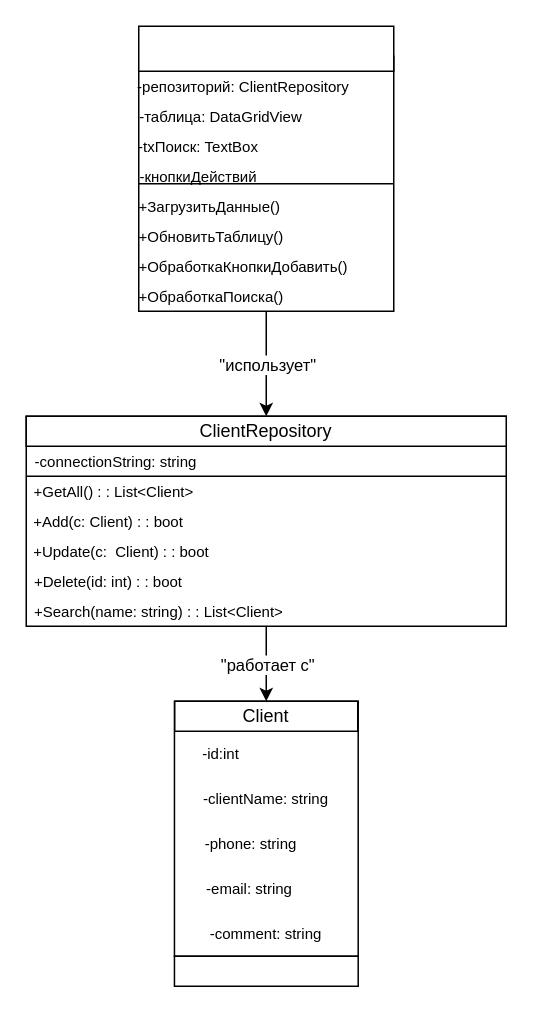
Some shapes in this 534 by 1013 pixel diagram are drawn without their labels. The centre of each missing label's shape, as x and y in pixels:
+Validate() :: bool: the point at 265,970
Главная Форма: the point at 265,48
